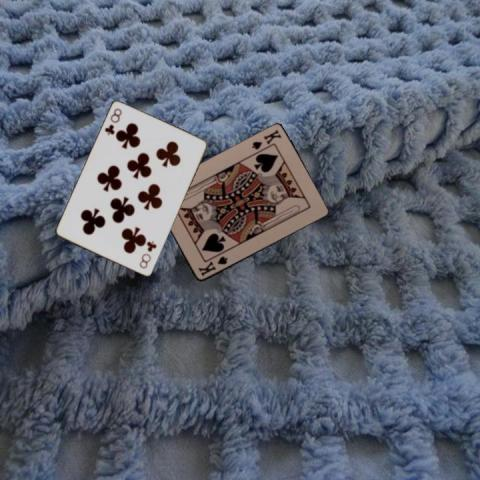8c: (136, 238, 158, 270), (102, 105, 123, 137)
Ks: (196, 253, 229, 278), (248, 127, 282, 151)
